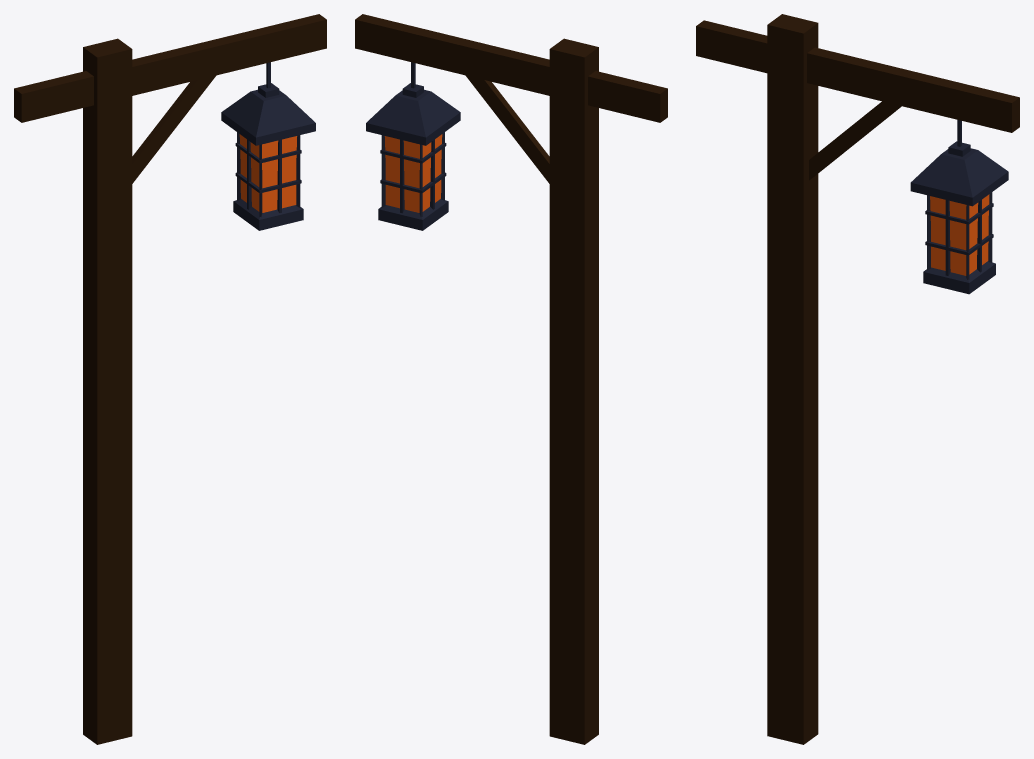
File: StreetLamp.fbx
3 renders of one model, left to right at view 1: azimuth 30°, elevation 25°; view 2: azimuth 150°, elevation 25°; view 3: azimuth 330°, elevation 25°, orthographic. The views are drawn at different scales.
Visible parts, largest first — view 1: StreetLamp; view 2: StreetLamp; view 3: StreetLamp.
Part boxes in pixels (box(x1,y1,x2,y2)): StreetLamp: box(14, 14, 326, 744); StreetLamp: box(355, 14, 667, 744); StreetLamp: box(696, 14, 1019, 744).
Size of the model in its own units: 124 by 266 by 24.29.
